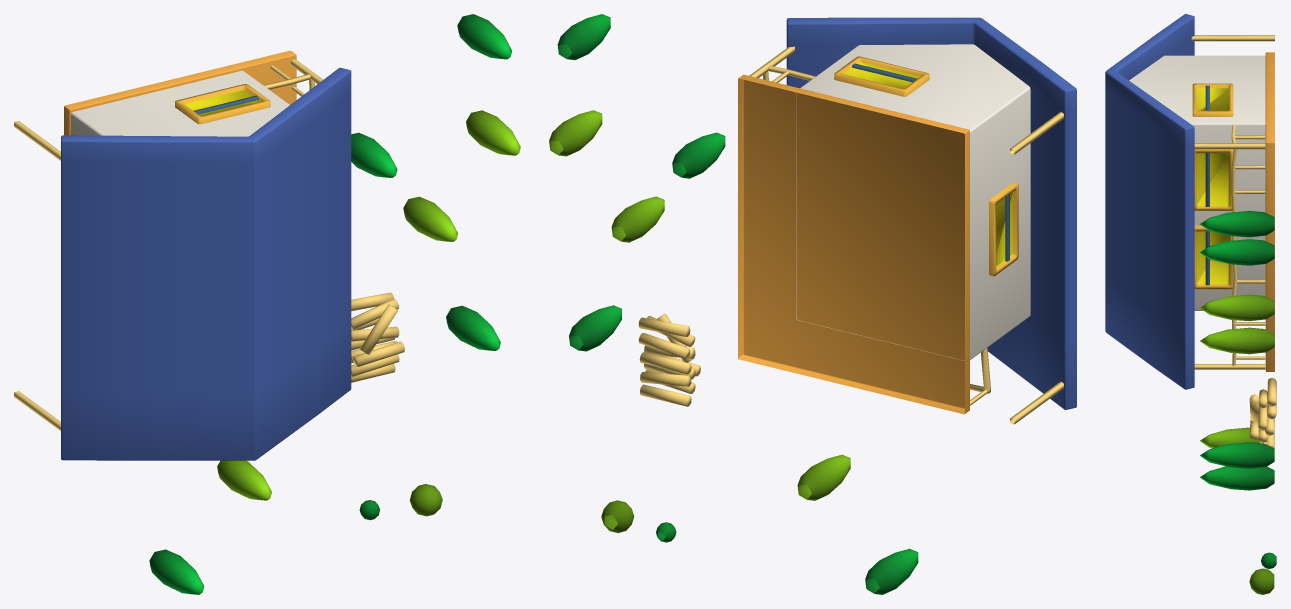
File: Simple_House_02_02.fbx
3 views of the same model, side by side, from view 1: azimuth 30°, elevation 25°; view 2: azimuth 150°, elevation 25°; view 3: azimuth 270°, elevation 25° (orthographic). The views are drawn at different scales.
Visible parts, largest first — view 1: Simple_House_02_02; view 2: Simple_House_02_02; view 3: Simple_House_02_02.
Part boxes in pixels (x1=…): Simple_House_02_02: x1=14, y1=14, x2=520, y2=594; Simple_House_02_02: x1=549, y1=14, x2=1076, y2=594; Simple_House_02_02: x1=1105, y1=14, x2=1276, y2=594.
Bounding box in the file's own units: 183 × 186 × 69.37.
